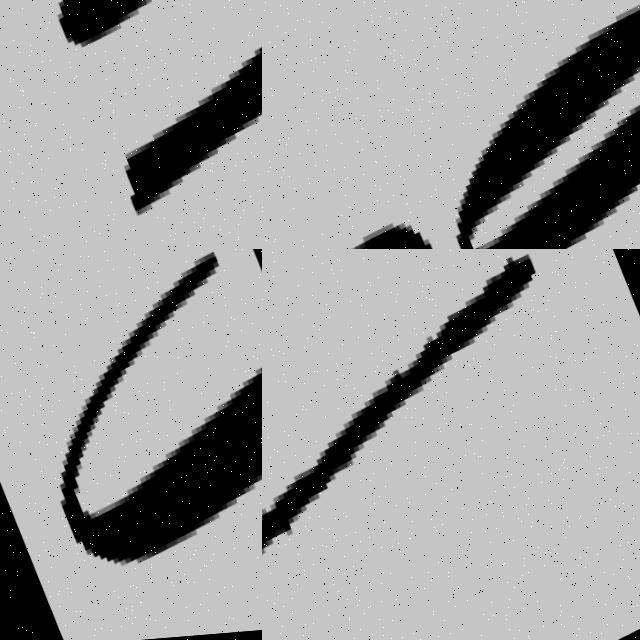E: (60, 249, 262, 569)
G: (262, 0, 640, 249)
L: (262, 249, 613, 640)
M: (0, 0, 262, 249)
